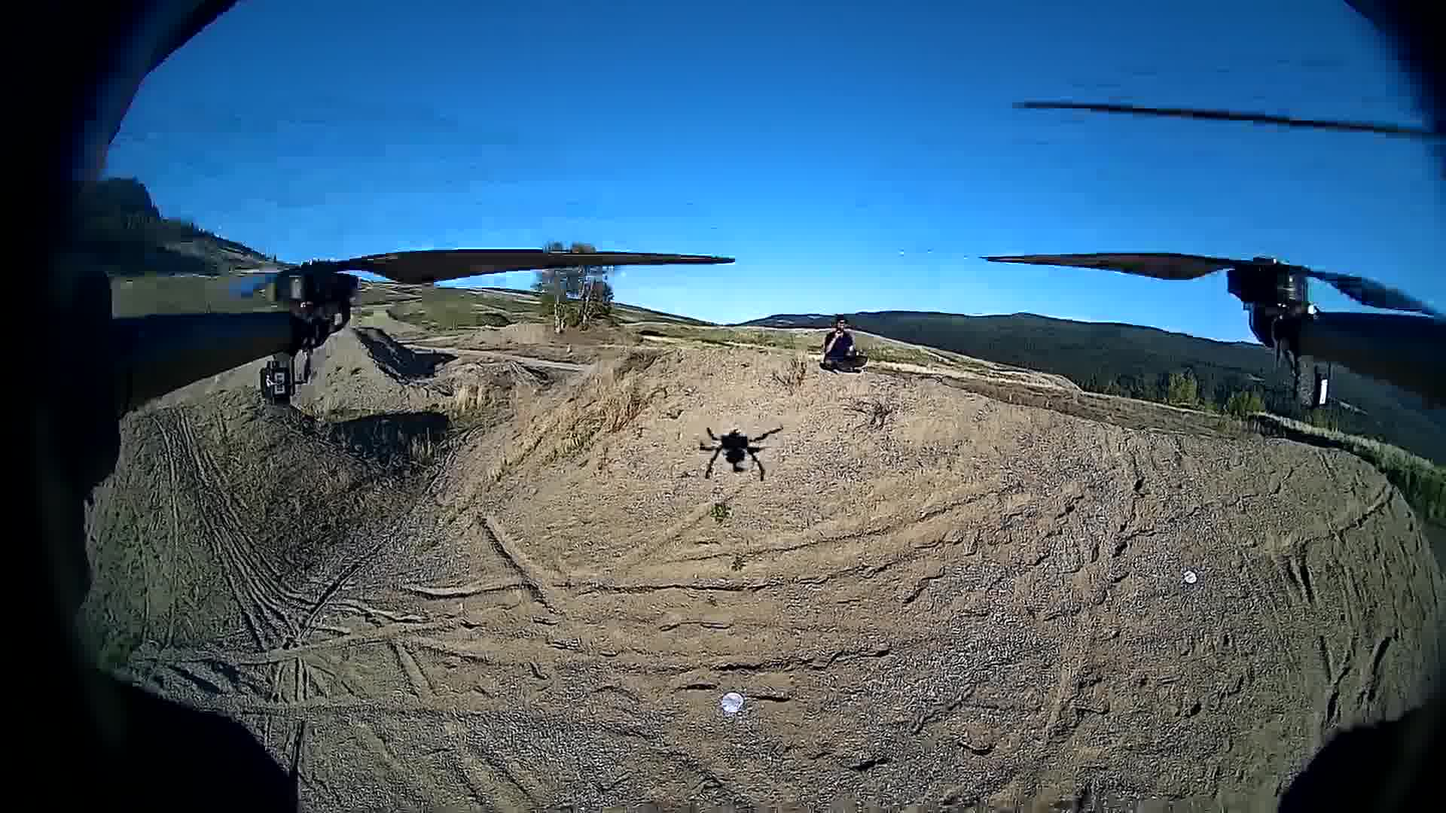Target: (721, 692, 743, 711), (1184, 572, 1197, 584)
